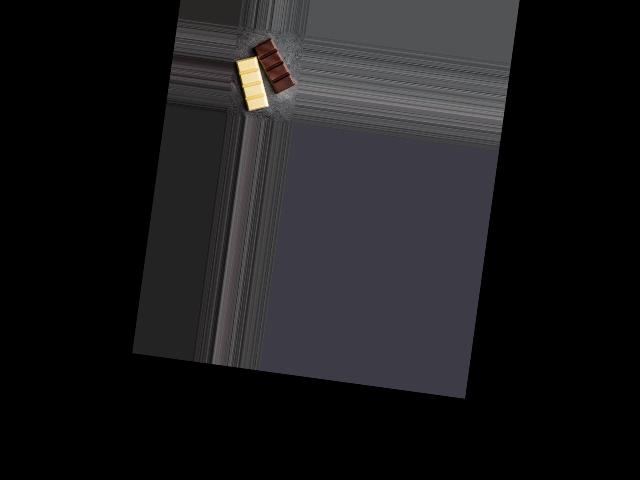chocolate: (229, 34, 299, 119)
